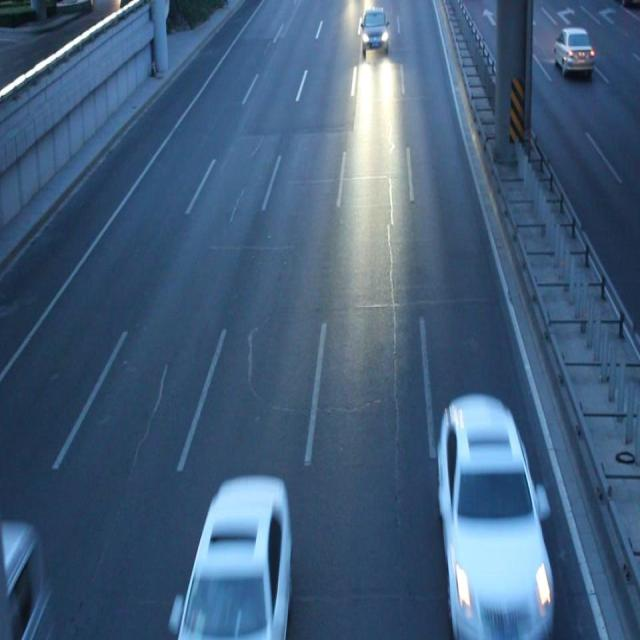car: (434, 398, 550, 632), (178, 475, 290, 640), (359, 10, 388, 58)
